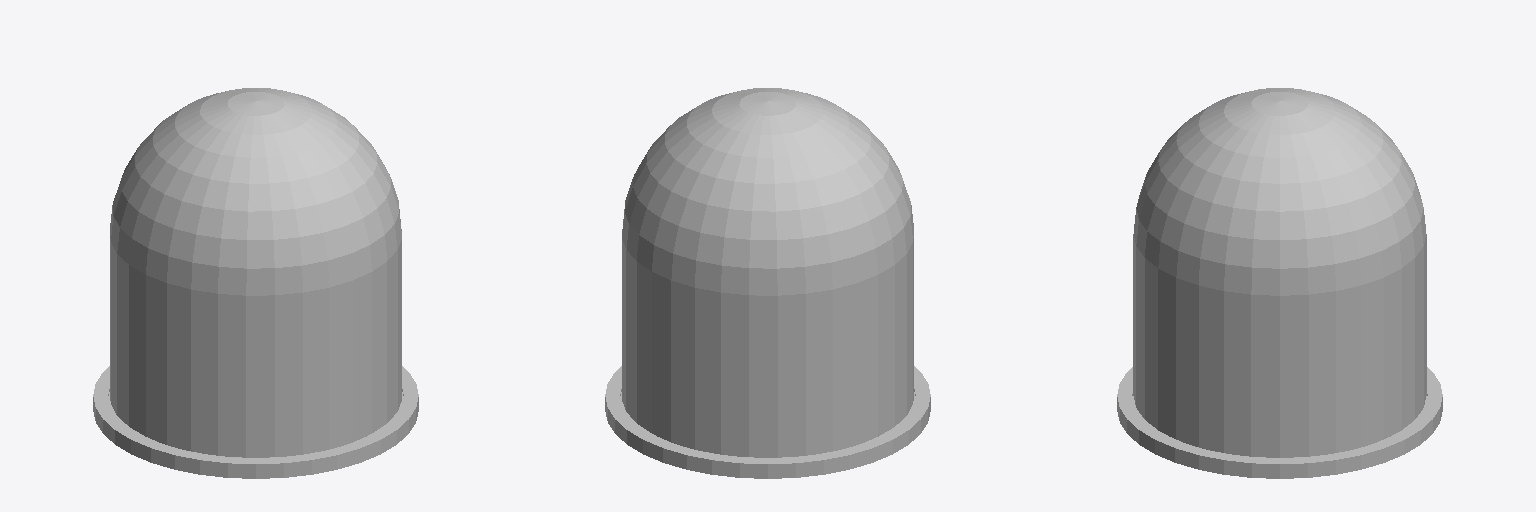
The model's file is rosa4.obj.
3 views of the same model, side by side, from view 1: azimuth 30°, elevation 25°; view 2: azimuth 150°, elevation 25°; view 3: azimuth 270°, elevation 25° (orthographic).
Parts seen in each view (by area): view 1: Sphere, Cylinder; view 2: Sphere, Cylinder; view 3: Sphere, Cylinder.
Part boxes in pixels (bbox=[...]): Sphere: bbox=[110, 88, 401, 457]; Cylinder: bbox=[93, 366, 418, 478]; Sphere: bbox=[622, 88, 913, 457]; Cylinder: bbox=[605, 366, 930, 478]; Sphere: bbox=[1133, 88, 1426, 457]; Cylinder: bbox=[1117, 367, 1442, 478].
Size of the model in its own units: 18.37 by 19.27 by 18.37.